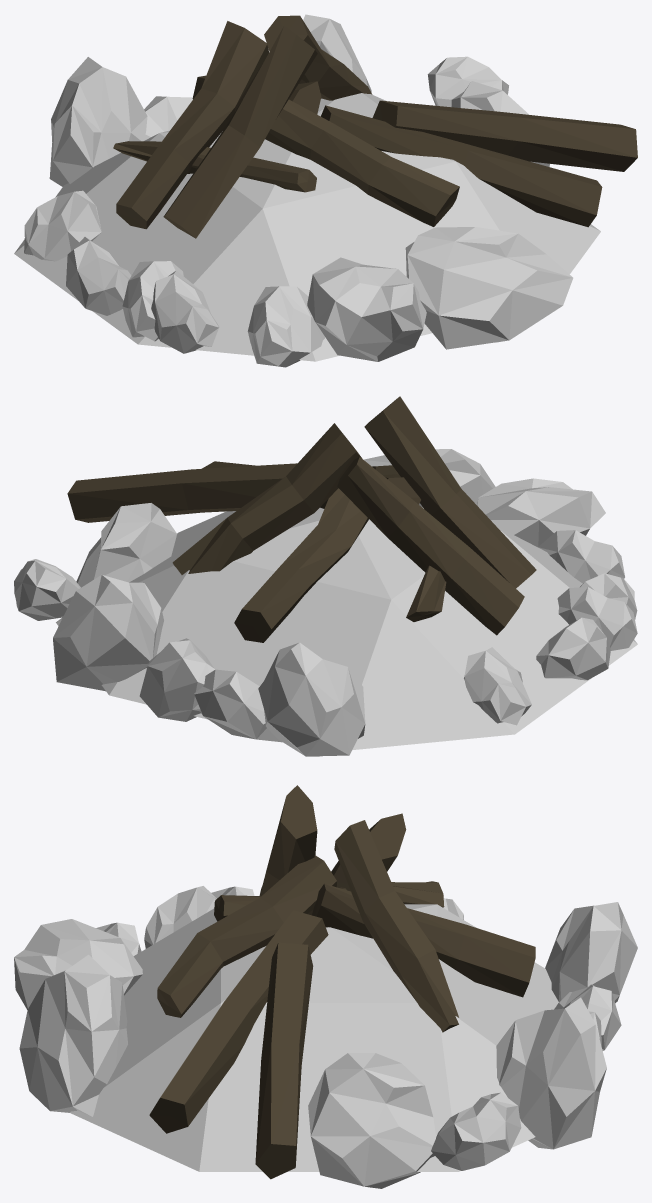
The model's file is NW_MISC_FIREPLACE_01.OBJ.
The picture shows the model from 3 angles, top to bottom: view 1: azimuth 30°, elevation 25°; view 2: azimuth 150°, elevation 25°; view 3: azimuth 270°, elevation 25°; orthographic projection. The views are drawn at different scales.
Visible parts, largest first — view 1: NW_MISC_FIREPLACE_01; view 2: NW_MISC_FIREPLACE_01; view 3: NW_MISC_FIREPLACE_01.
Part boxes in pixels (box(x1,y1,x2,y2)): NW_MISC_FIREPLACE_01: box(14, 14, 637, 367); NW_MISC_FIREPLACE_01: box(14, 396, 637, 756); NW_MISC_FIREPLACE_01: box(14, 785, 637, 1188).
Bounding box in the file's own units: 2.02 × 0.8994 × 1.88.
